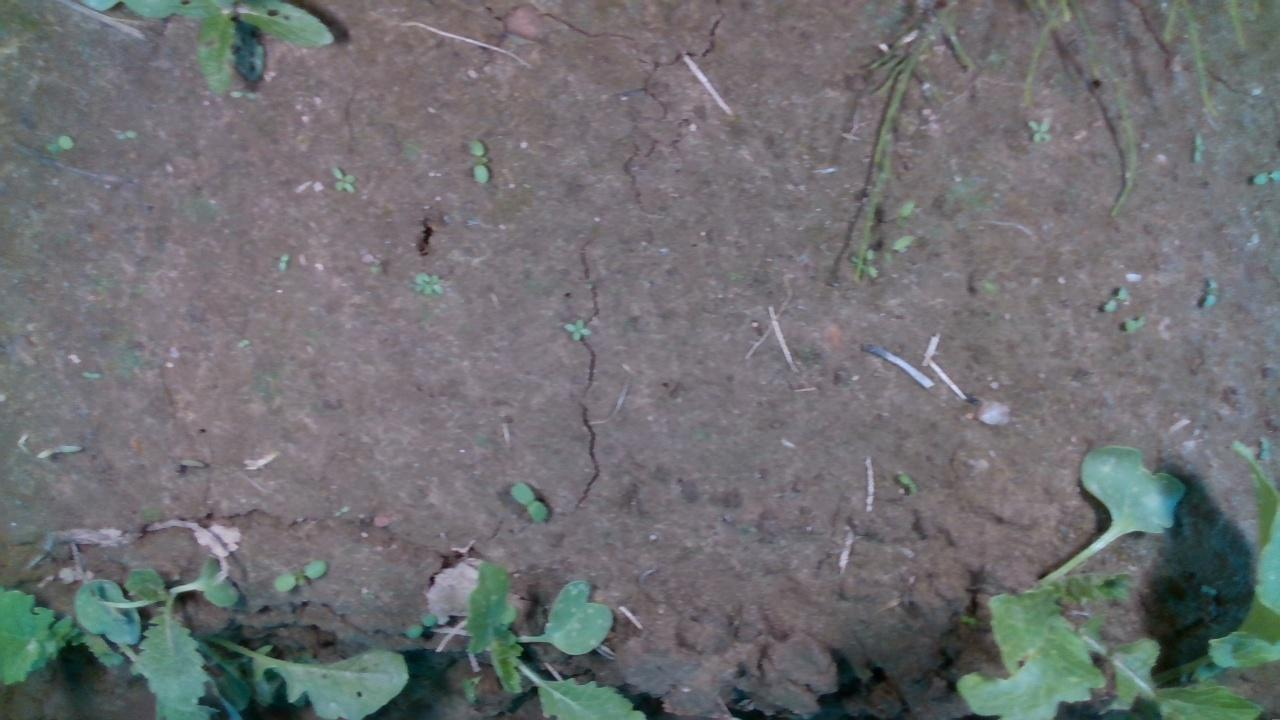weed: (269, 556, 327, 592), (505, 480, 550, 526), (464, 135, 489, 186), (413, 269, 446, 298), (329, 162, 357, 196), (560, 315, 591, 342), (1024, 116, 1052, 145), (1100, 285, 1129, 313), (1198, 276, 1221, 311), (43, 132, 73, 153), (1122, 312, 1148, 332), (276, 249, 288, 274)
